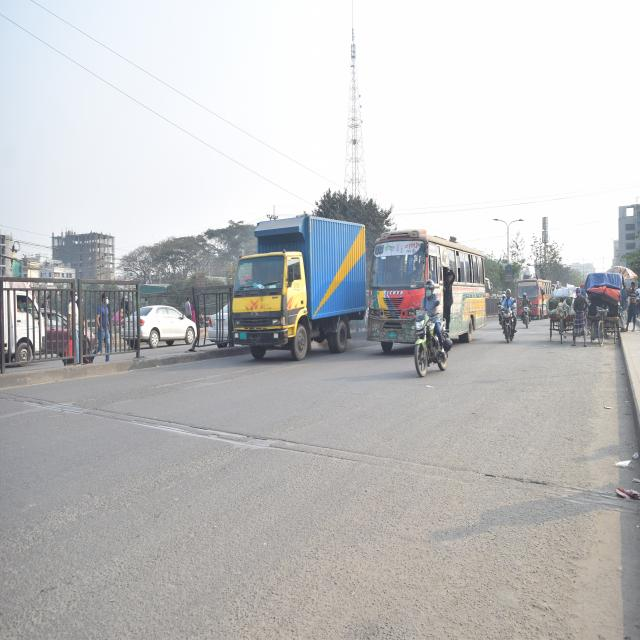bus: (364, 217, 487, 349)
motorbike: (399, 288, 453, 386)
pickup-van: (228, 204, 368, 378)
